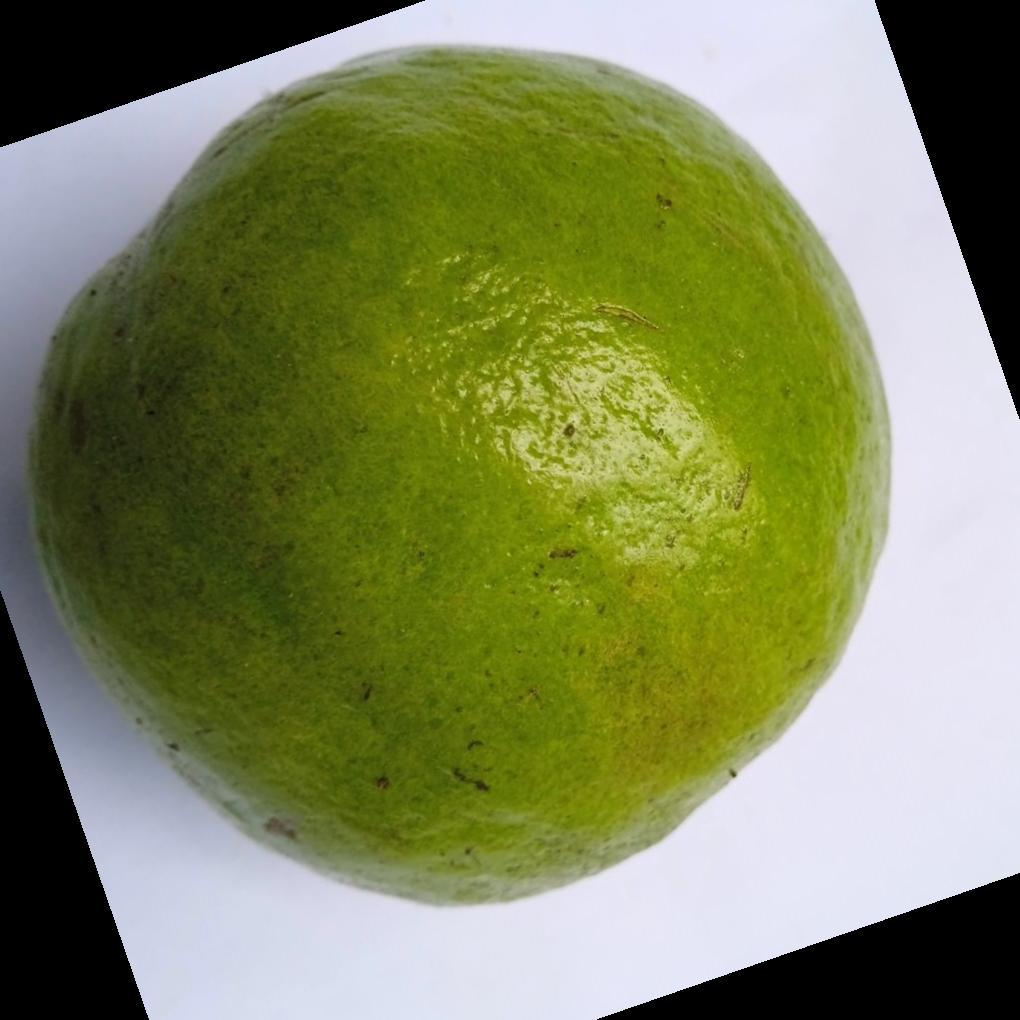FreshGuava: (24, 45, 895, 912)
